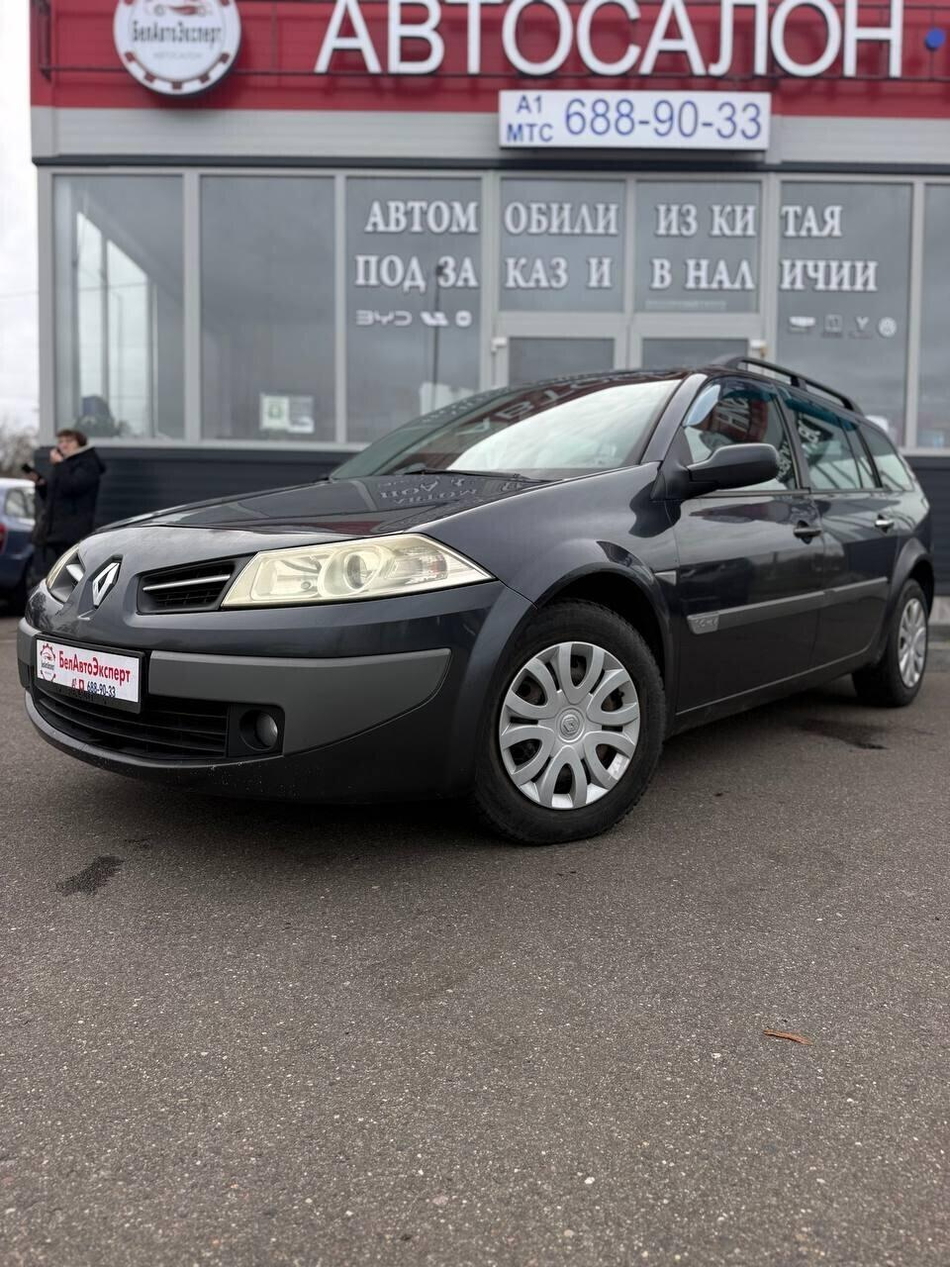Megane_2005-2009: (18, 343, 947, 845)
